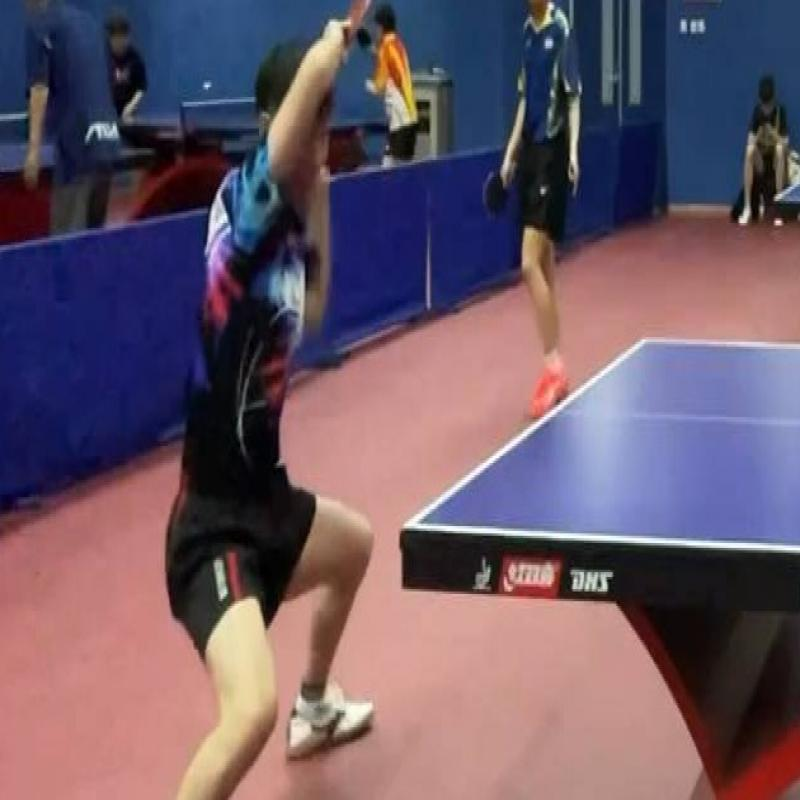bats: (337, 0, 372, 53)
